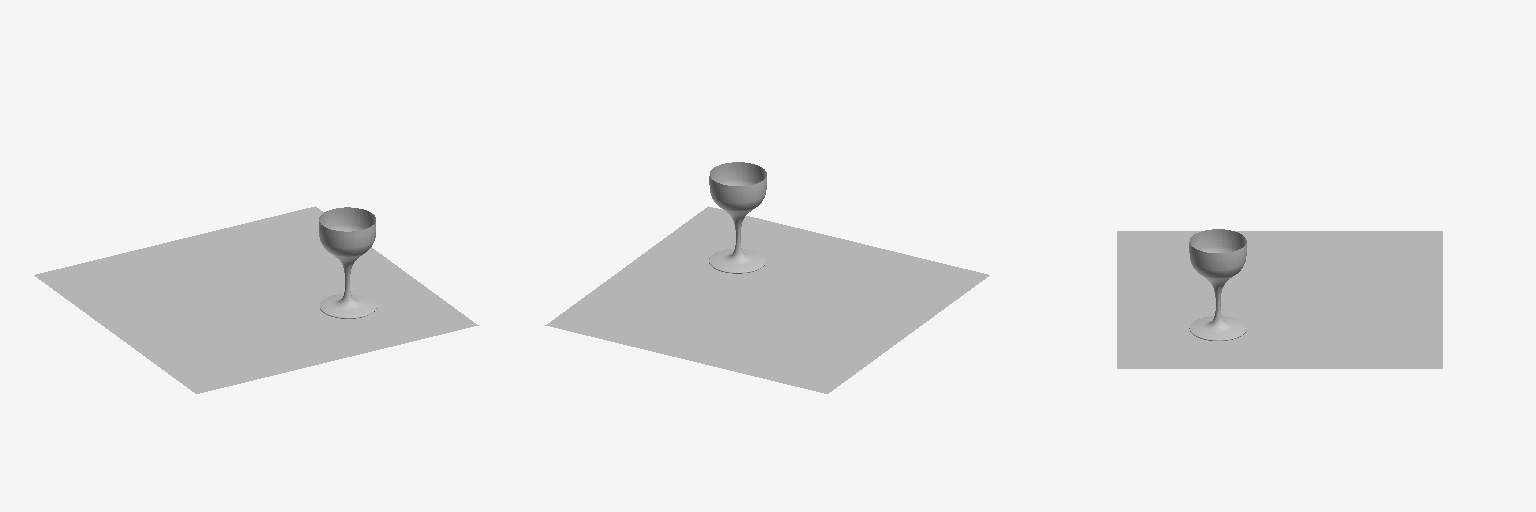
Rendered from cup.obj.
3 renders of one model, left to right at view 1: azimuth 30°, elevation 25°; view 2: azimuth 150°, elevation 25°; view 3: azimuth 270°, elevation 25°, orthographic.
Visible parts, largest first — view 1: tile_Plane, object 2; view 2: tile_Plane, object 2; view 3: tile_Plane, object 2.
Boxes of the visible parts, x1=… form: tile_Plane: x1=34, y1=206, x2=478, y2=393; object 2: x1=319, y1=207, x2=376, y2=318; tile_Plane: x1=545, y1=206, x2=989, y2=393; object 2: x1=709, y1=162, x2=766, y2=273; tile_Plane: x1=1117, y1=231, x2=1442, y2=368; object 2: x1=1189, y1=229, x2=1246, y2=340.
Size of the model in its own units: 21.01 by 6.31 by 21.01.